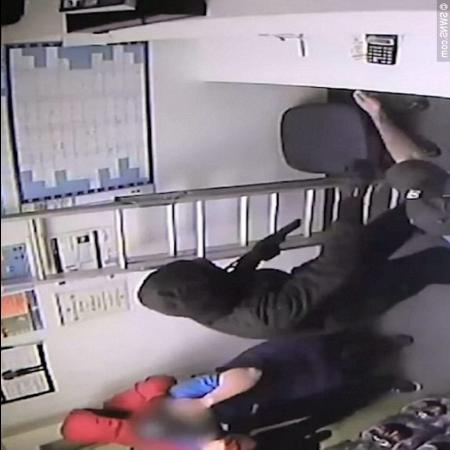Pistol: (258, 216, 300, 262)
